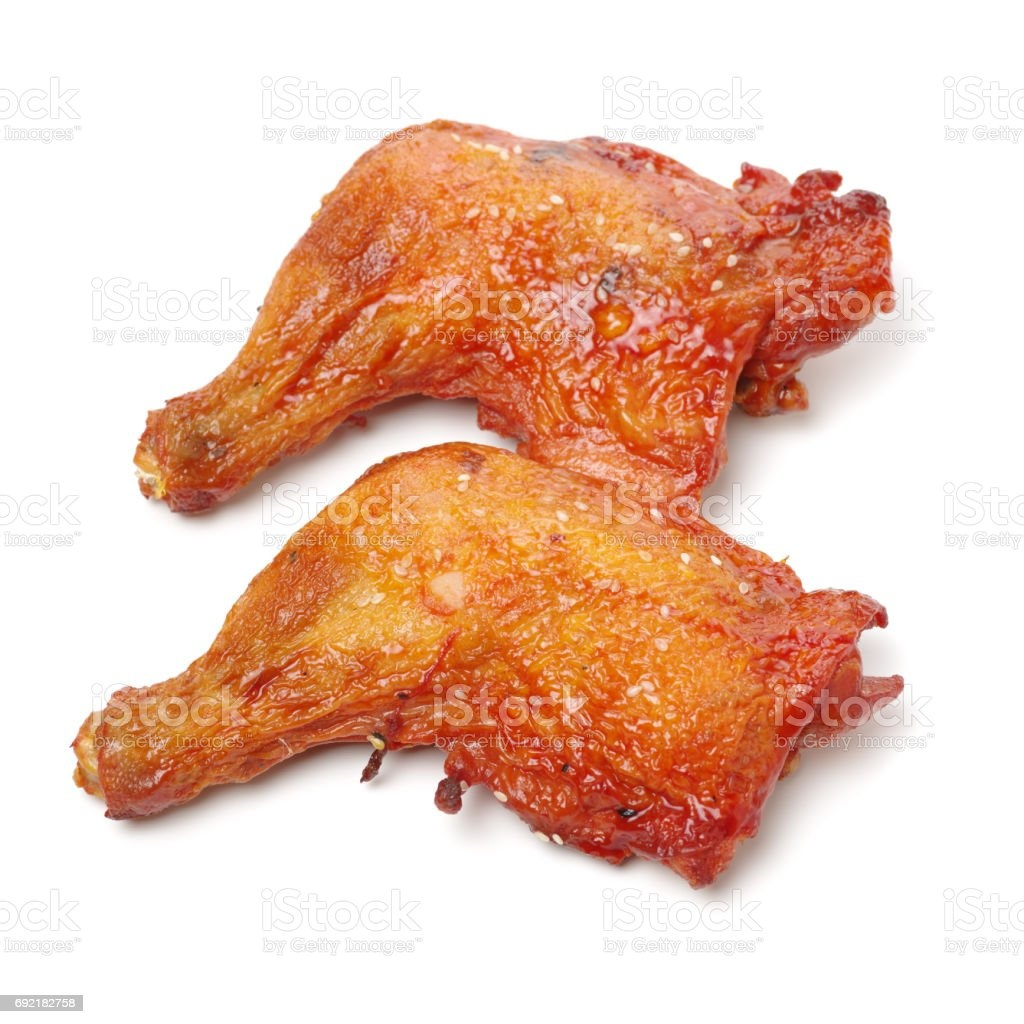ayam_goreng: (13, 432, 916, 887), (102, 75, 891, 506)
